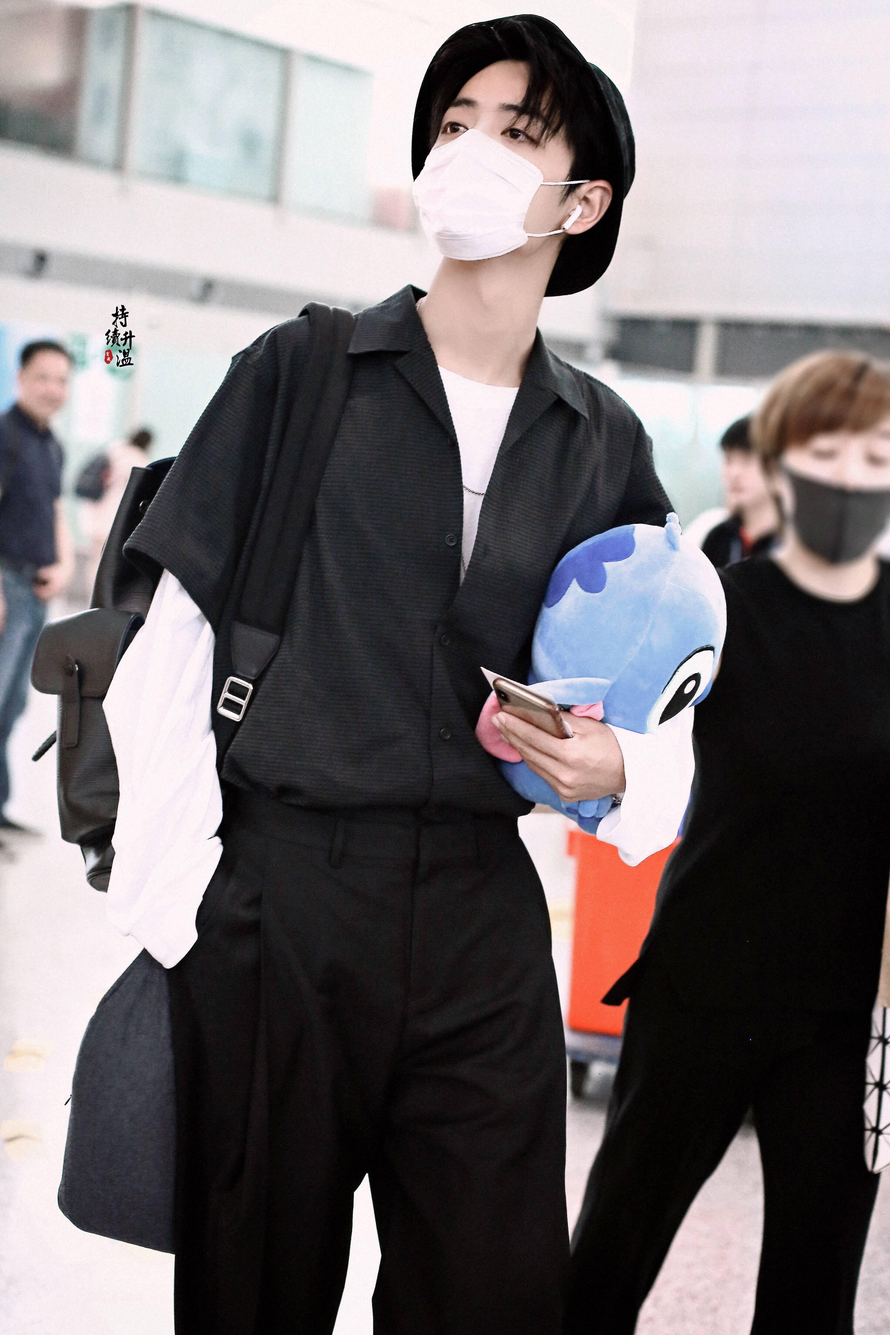NONE: (25, 362, 71, 415), (723, 450, 762, 505)
OK: (420, 81, 558, 258), (783, 427, 890, 563)
